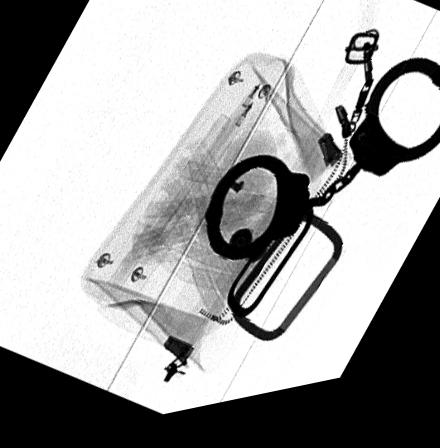HandCuffs: (203, 74, 440, 273)
